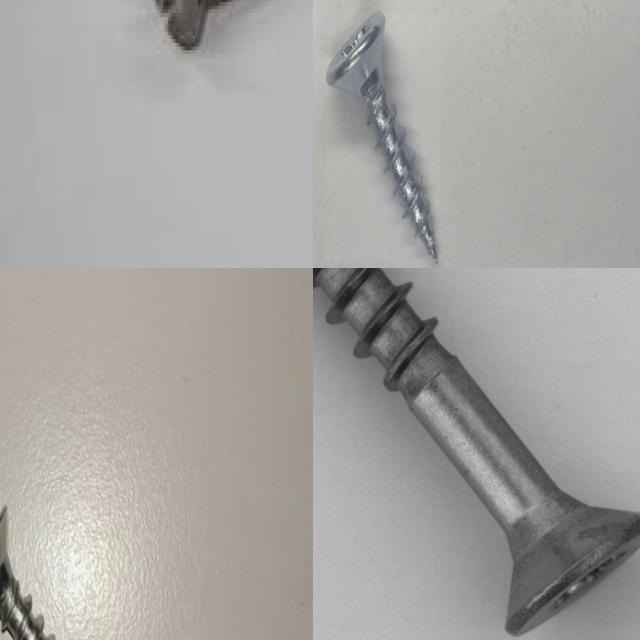Screw: (313, 268, 640, 640), (326, 11, 438, 261), (0, 506, 55, 640)
